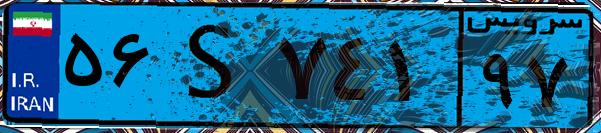1: (385, 28, 445, 110)
4: (330, 28, 385, 110)
5: (57, 26, 110, 100)
6: (110, 28, 158, 98)
7: (270, 28, 330, 110), (525, 38, 570, 115)
9: (475, 38, 525, 113)
S: (158, 12, 270, 120)
